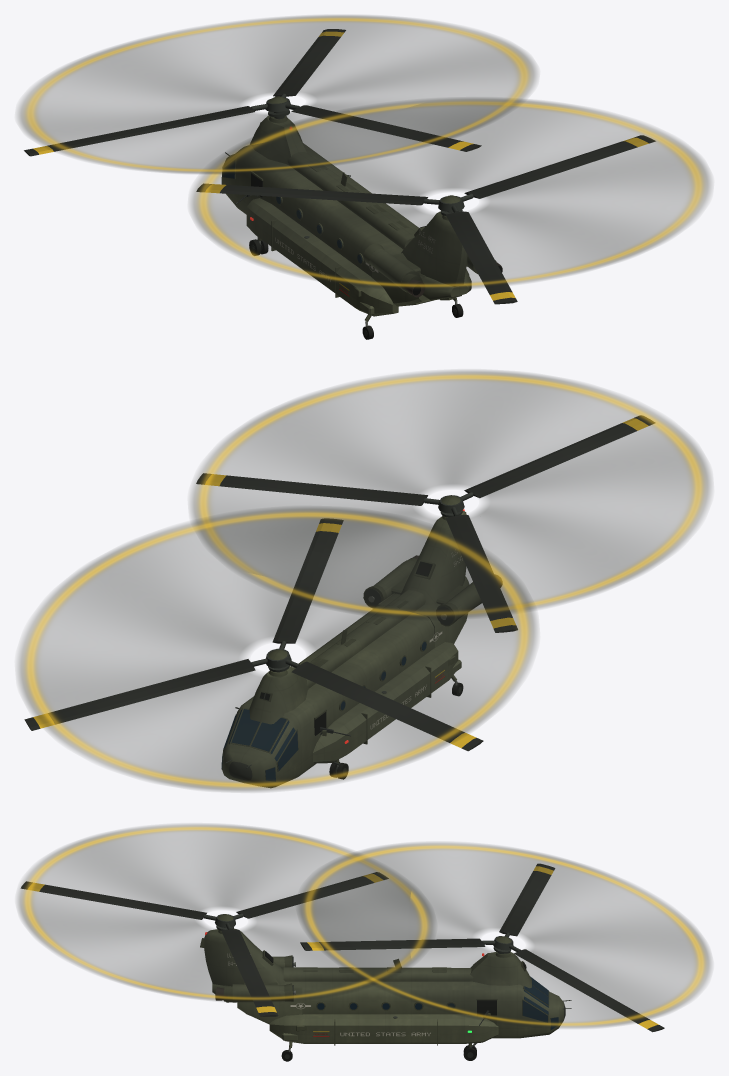
3 views of the same model, one above another, from view 1: azimuth 30°, elevation 25°; view 2: azimuth 150°, elevation 25°; view 3: azimuth 270°, elevation 25° (orthographic). The views are drawn at different scales.
Parts seen in each view (by area): view 1: RearRotorBlur, FrontRotorBlur, Fuselage, RearRotor, FrontRotor; view 2: FrontRotorBlur, RearRotorBlur, Fuselage, FrontRotor, RearRotor; view 3: FrontRotorBlur, RearRotorBlur, Fuselage, RearRotor, FrontRotor.
Part boxes in pixels (x1,y1,x2,y2): RearRotorBlur: (190, 98, 711, 289); FrontRotorBlur: (17, 15, 537, 173); Fuselage: (221, 115, 502, 339); RearRotor: (196, 135, 655, 304); FrontRotor: (24, 29, 481, 156); FrontRotorBlur: (17, 507, 537, 791); RearRotorBlur: (190, 370, 711, 619); Fuselage: (221, 509, 502, 788); FrontRotor: (24, 518, 483, 751); RearRotor: (196, 415, 654, 632); FrontRotorBlur: (298, 842, 711, 1028); RearRotorBlur: (17, 824, 434, 1002); Fuselage: (200, 928, 571, 1061); RearRotor: (20, 872, 388, 1016); FrontRotor: (300, 863, 664, 1032).
Bounding box in the file's own units: 18.29 × 6.8 × 30.13.
20 materials, 5 textured.
